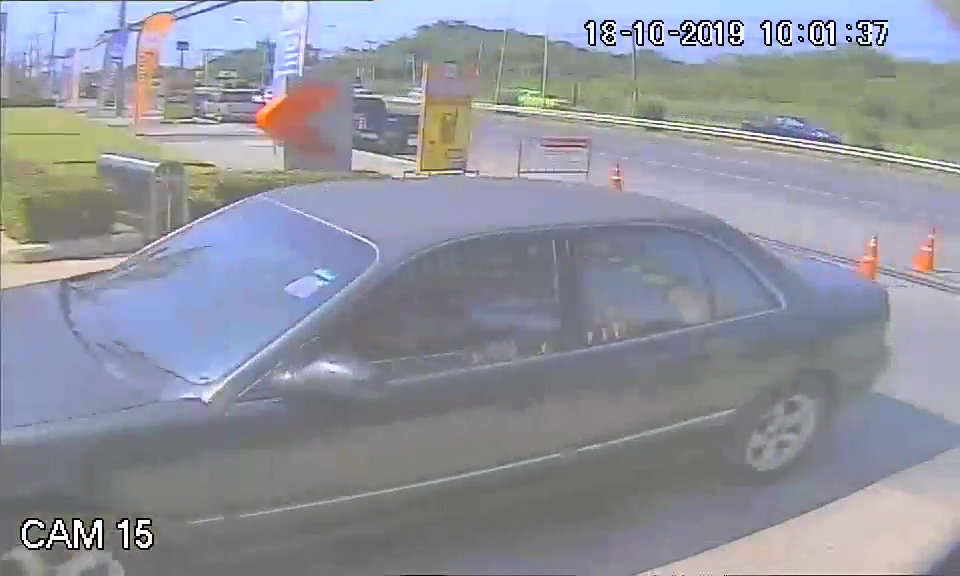sedan: (28, 178, 892, 519)
